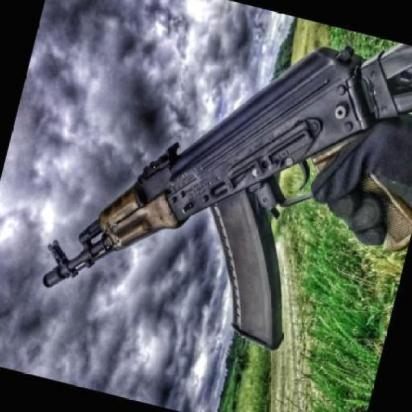Gun: (22, 0, 412, 389)
